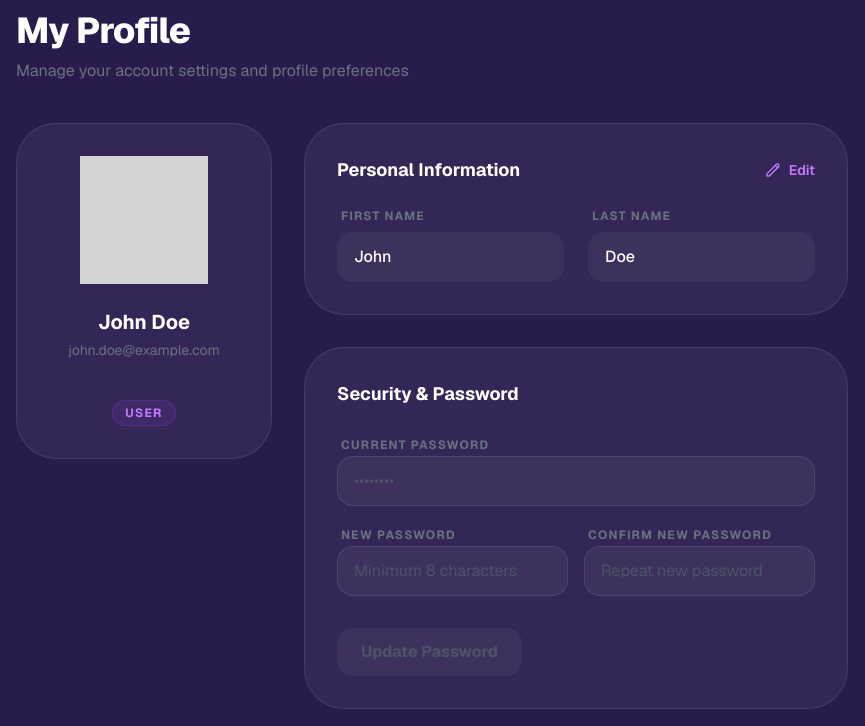
MyProfilePage › handles password change success
The image size is (865, 726).
Expected: the heading "Security & Password" is shown, [337, 382, 519, 405]
Type "oldpass" into the password field with placeholder "••••••••" at x=576, y=481, box [337, 456, 815, 506]
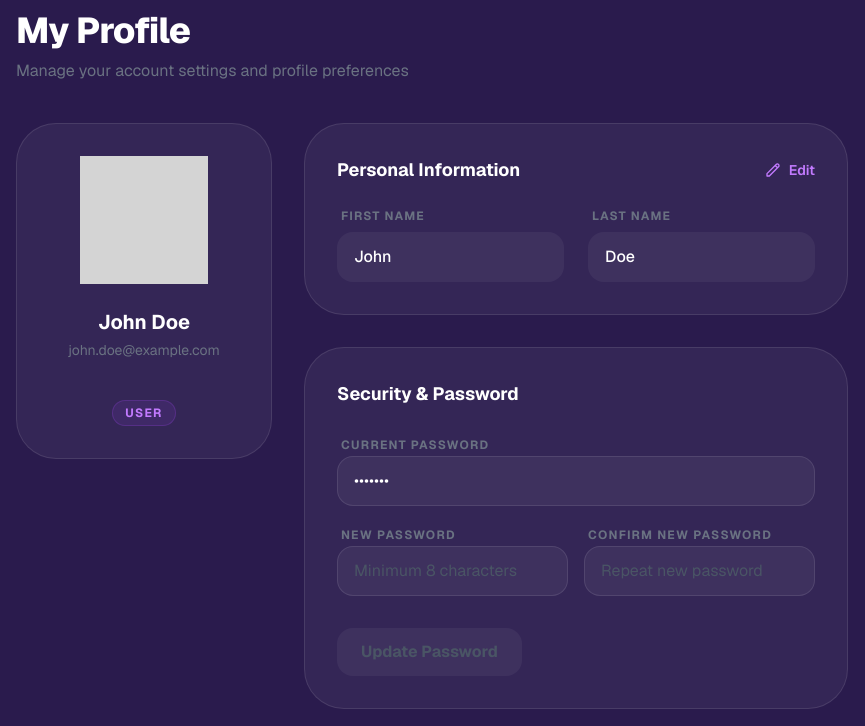
Type "newpass123" into the password field with placeholder "Minimum 8 characters" at x=452, y=571, box [337, 546, 568, 596]
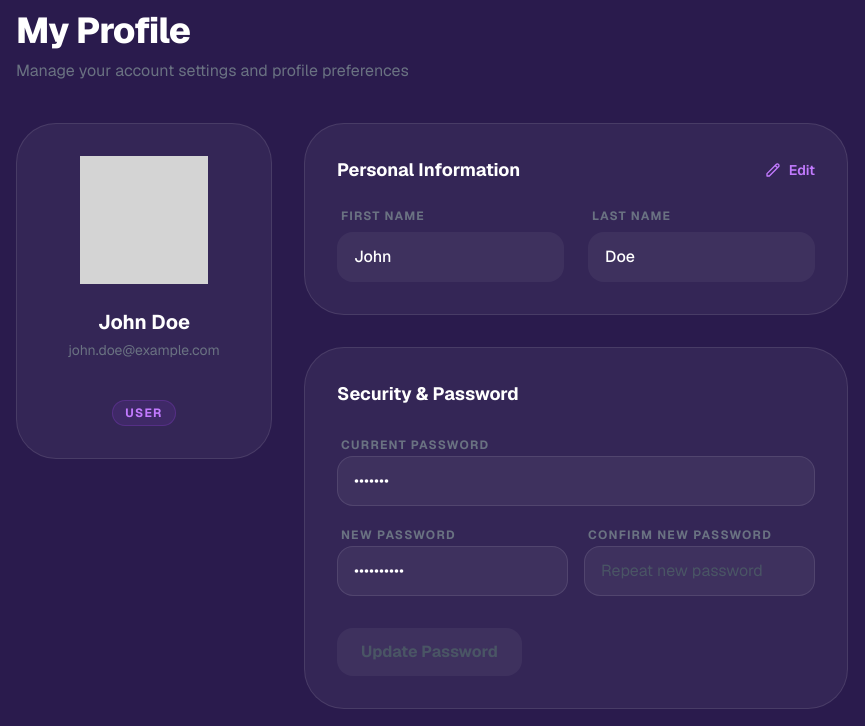
Type "newpass123" into the password field with placeholder "Repeat new password" at x=700, y=571, box [584, 546, 815, 596]
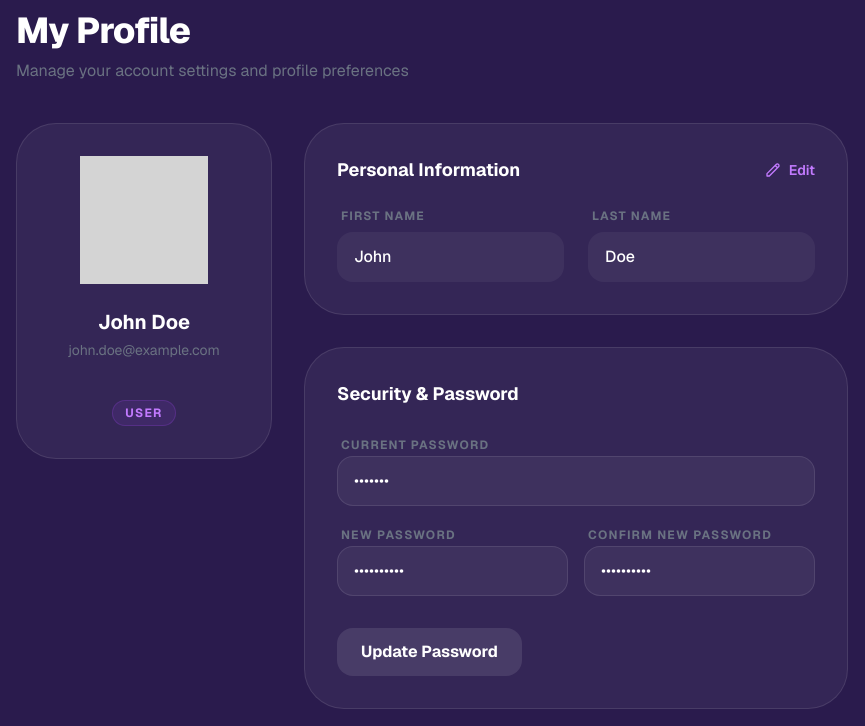
Click the button "Update Password" at x=429, y=652, box [337, 628, 522, 676]
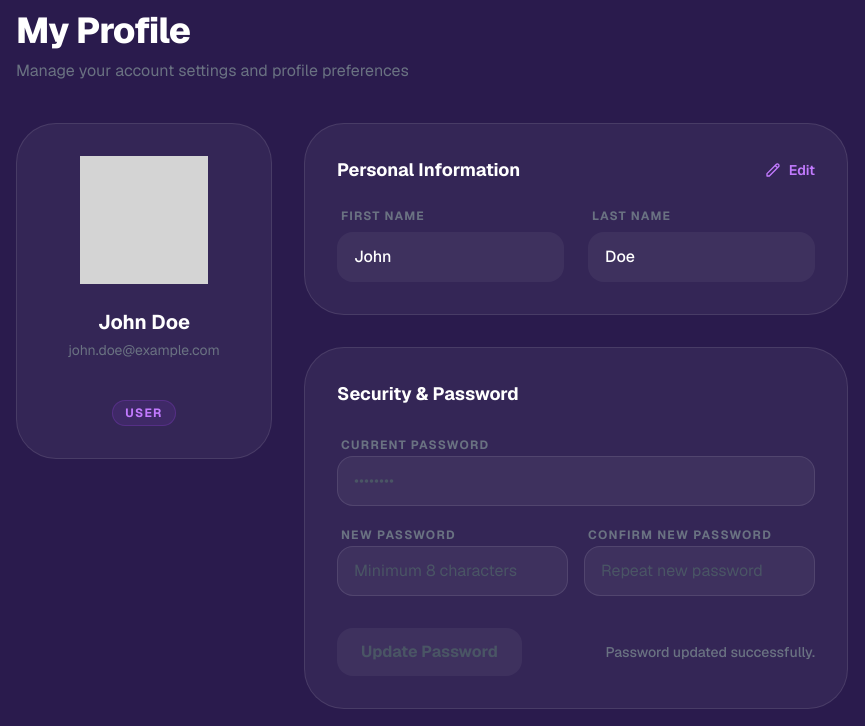
Now the text "Password updated successfully." is shown, box [605, 642, 815, 662]
